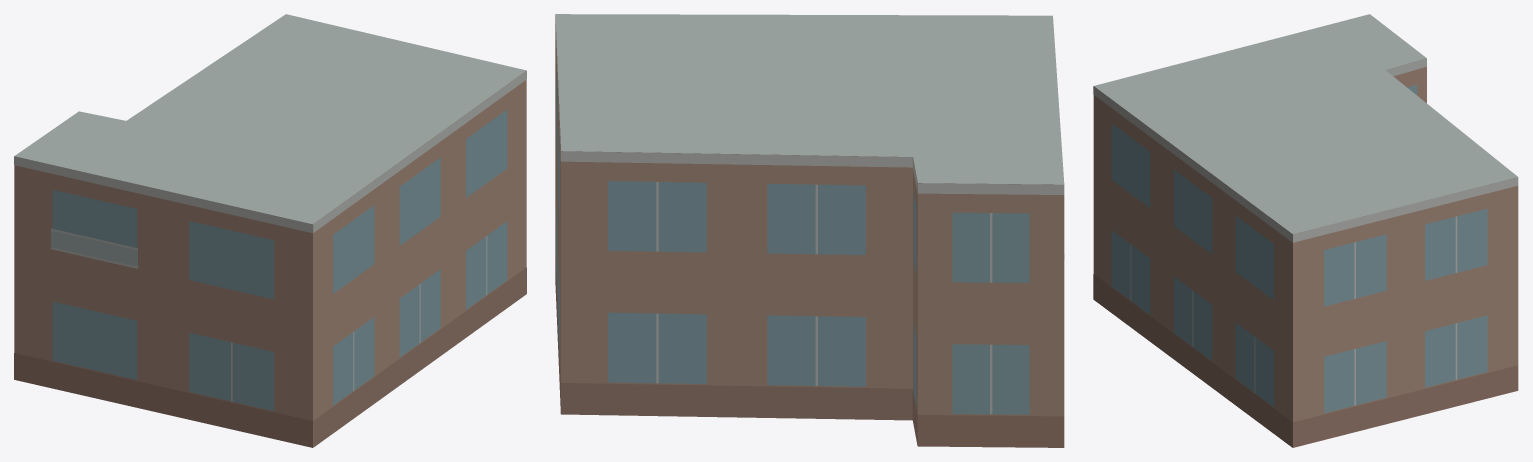
Rendered from survey-upis-32943361.glb.
3 views of the same model, side by side, from view 1: azimuth 30°, elevation 25°; view 2: azimuth 150°, elevation 25°; view 3: azimuth 270°, elevation 25° (orthographic). The views are drawn at different scales.
Parts seen in each view (by area): view 1: survey-upis-32943361.tmp; view 2: survey-upis-32943361.tmp; view 3: survey-upis-32943361.tmp.
Part boxes in pixels (x1,y1,x2,y2): survey-upis-32943361.tmp: (14, 14, 526, 447); survey-upis-32943361.tmp: (555, 14, 1064, 447); survey-upis-32943361.tmp: (1093, 14, 1518, 447).
Size of the model in its own units: 13.5 by 6.1 by 11.01.
